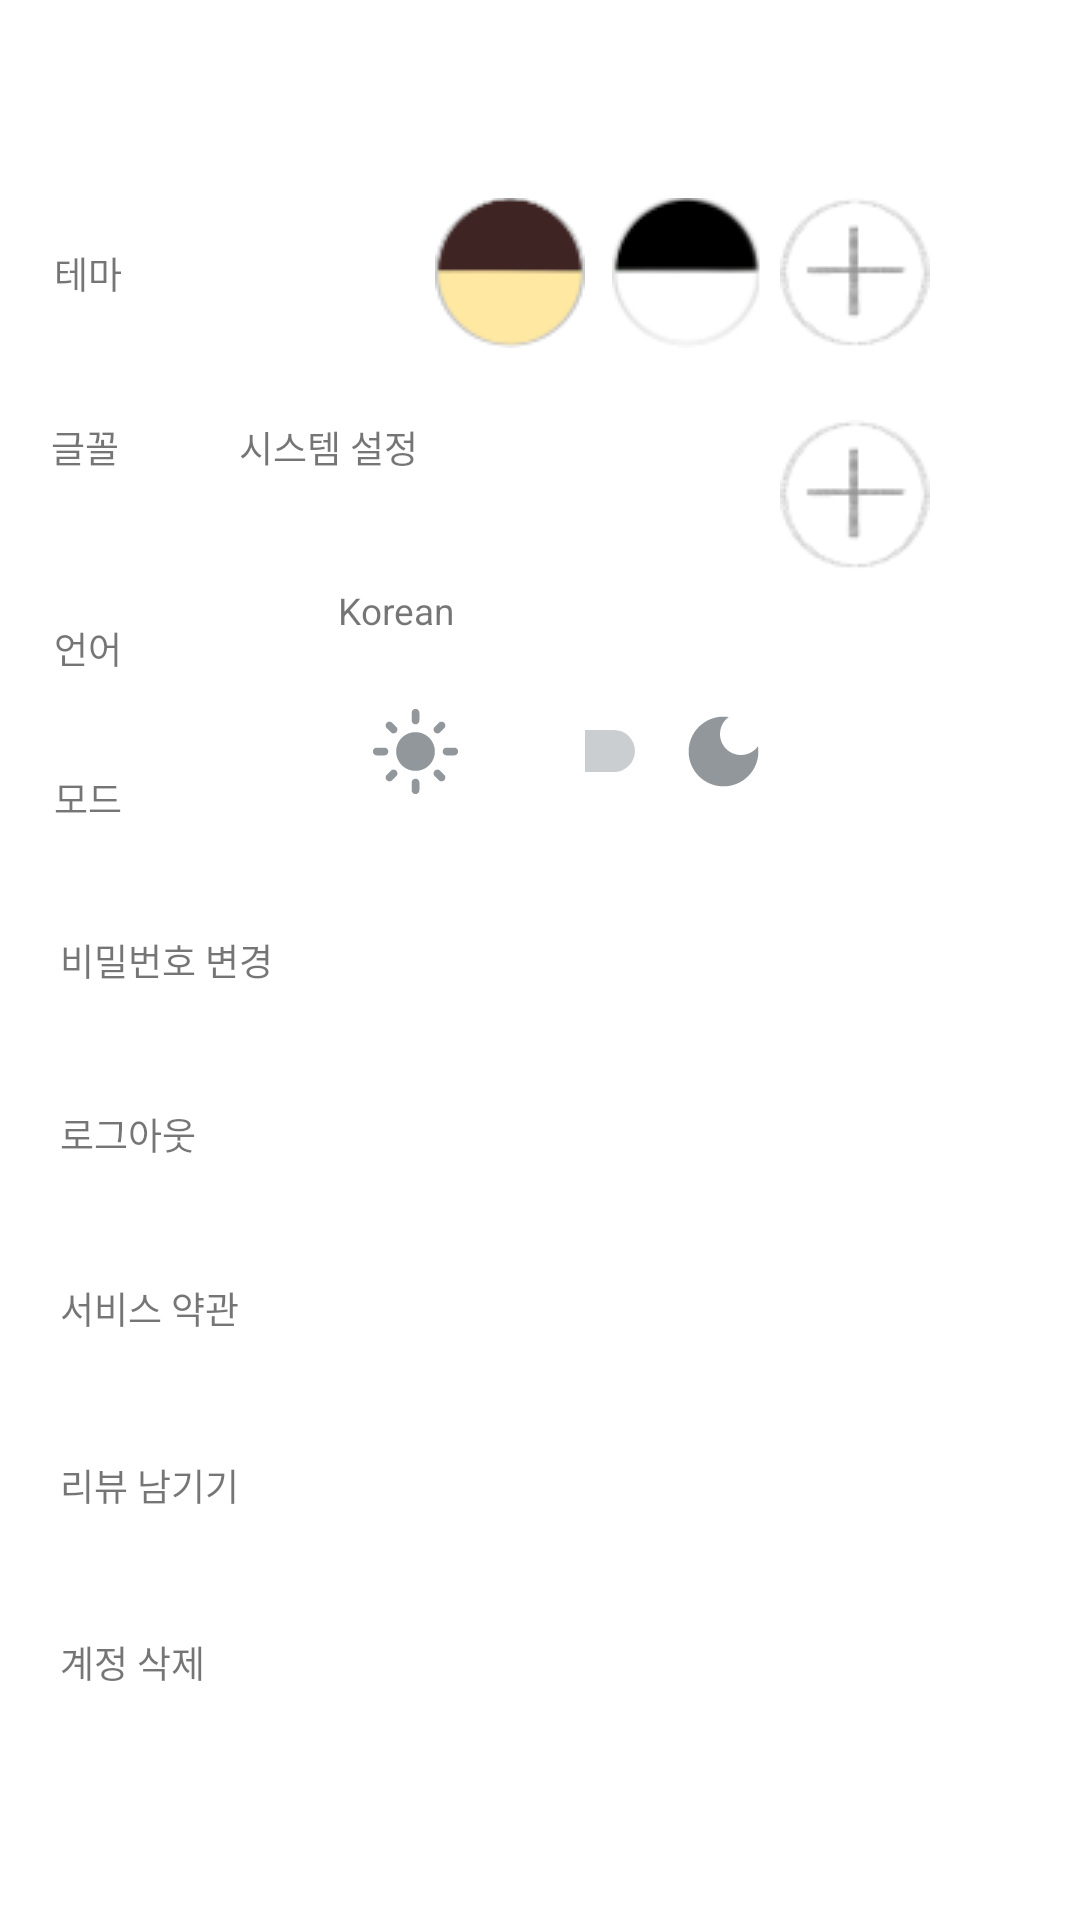

Icons on this 1080 x 1920 Android screen, each with its box as bbox=(x1, y1, x2, y2):
darkmode: bbox=(688, 716, 759, 787)
lightmode: bbox=(373, 709, 458, 794)
thema: bbox=(435, 198, 585, 346), bbox=(612, 198, 760, 320)
